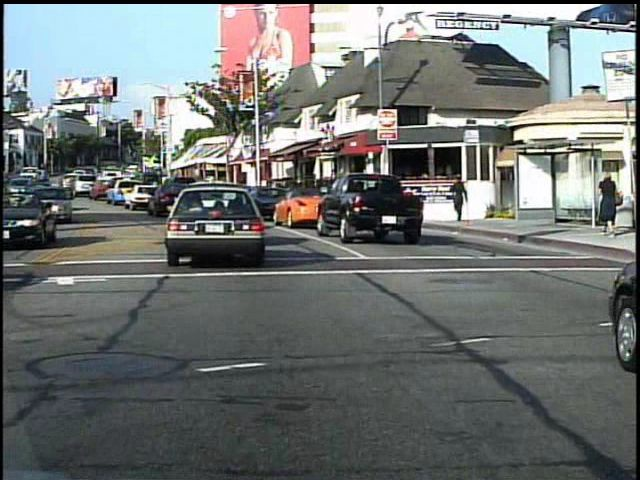person: (592, 167, 621, 240), (448, 179, 465, 230)
